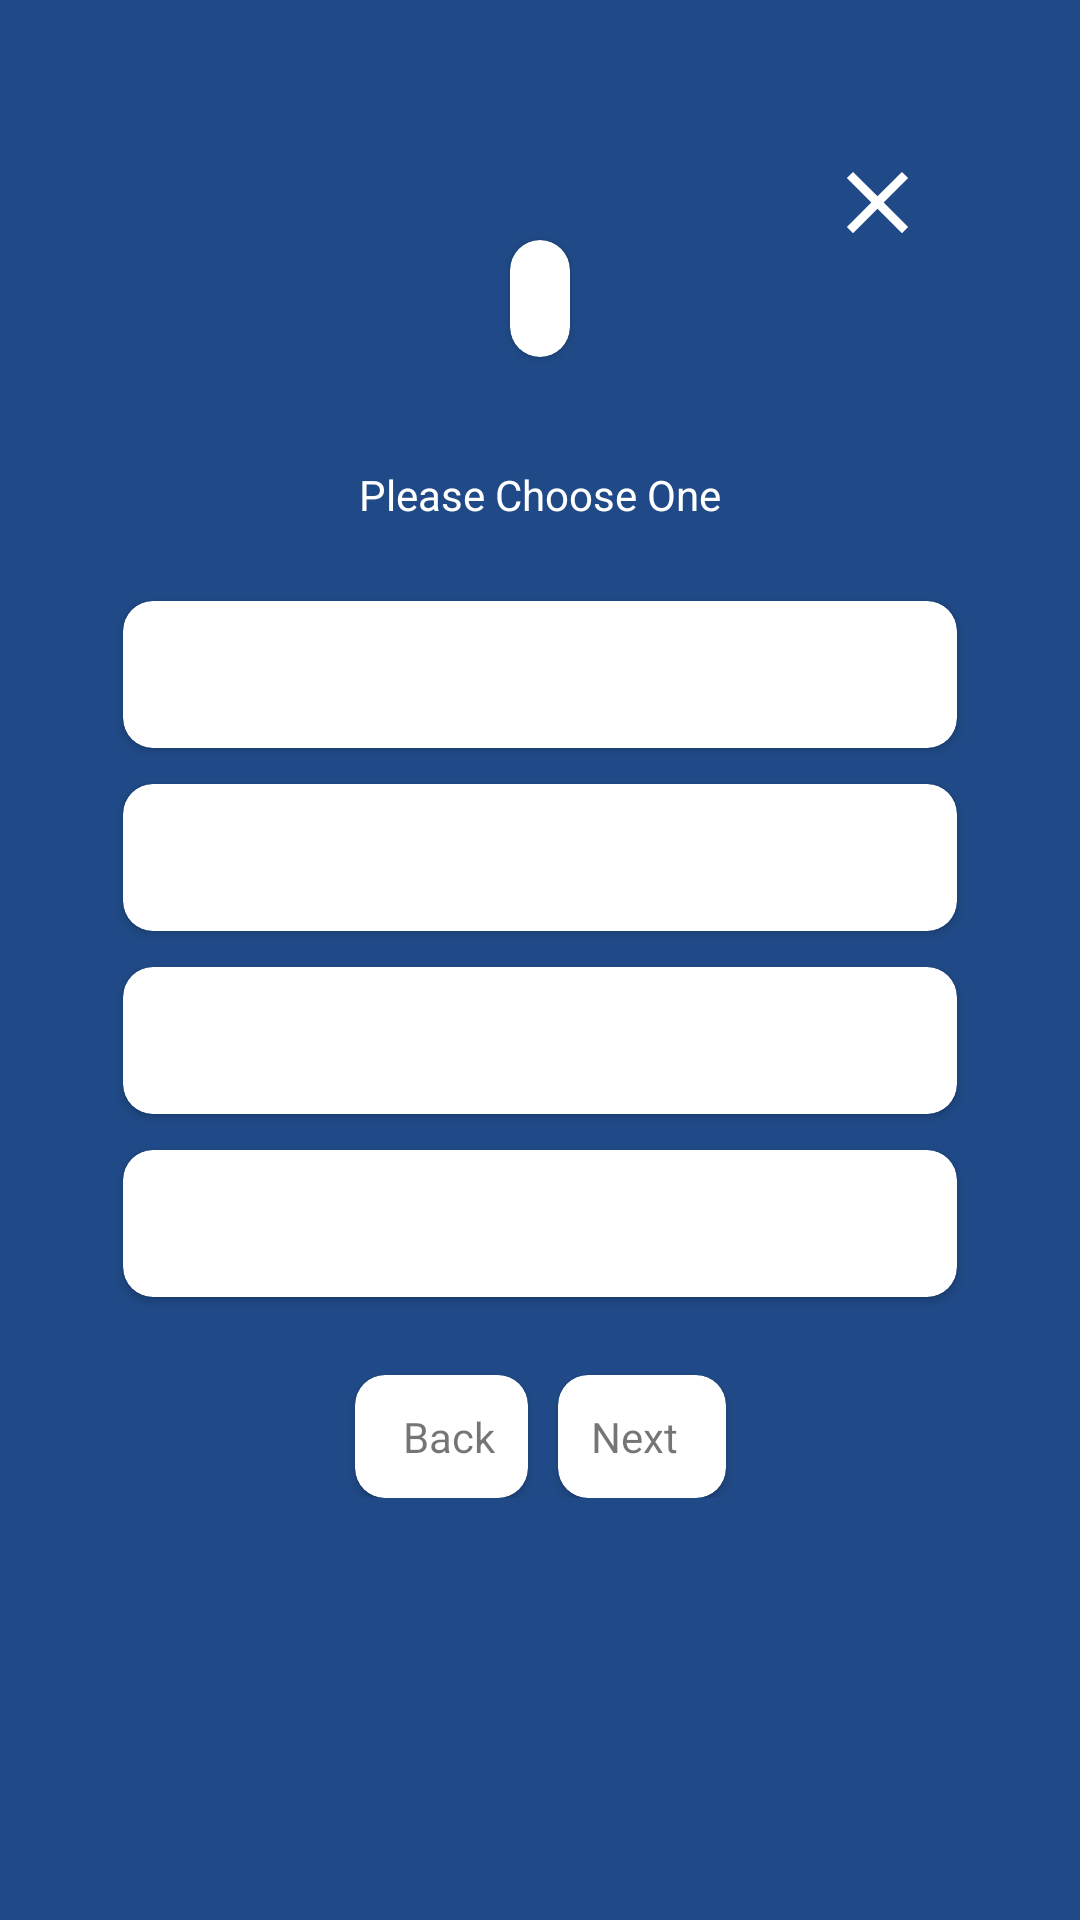

Named icons in this screenshot (1080×1920) and their bounding boxes, [left=x1, top=y1, right=x2, bottom=y2]:
close: [left=847, top=172, right=908, bottom=233]
